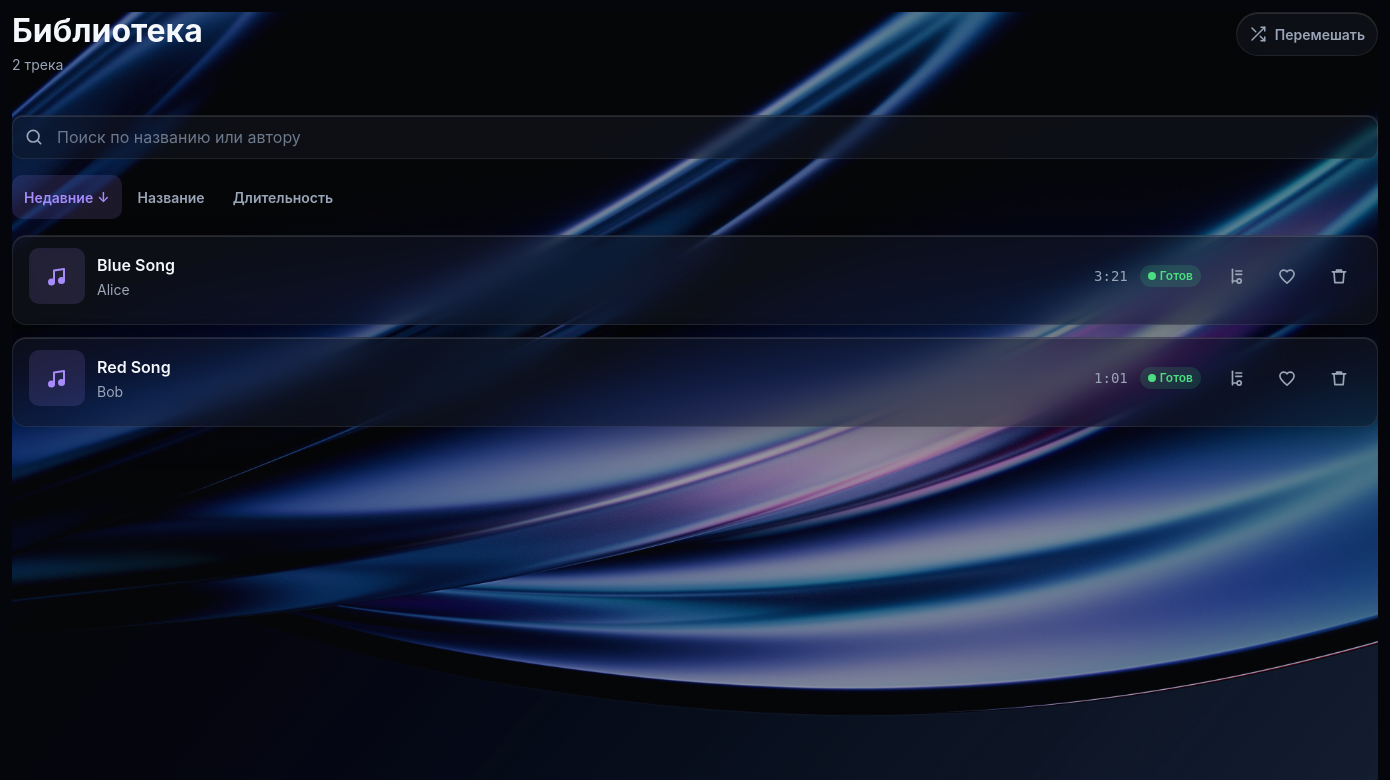
Test: LibraryView › keeps the row and shows a message when deletion fails with 409
Click the 1st button with class "track-row__action--delete" at x=1339, y=276, box [1317, 254, 1361, 298]
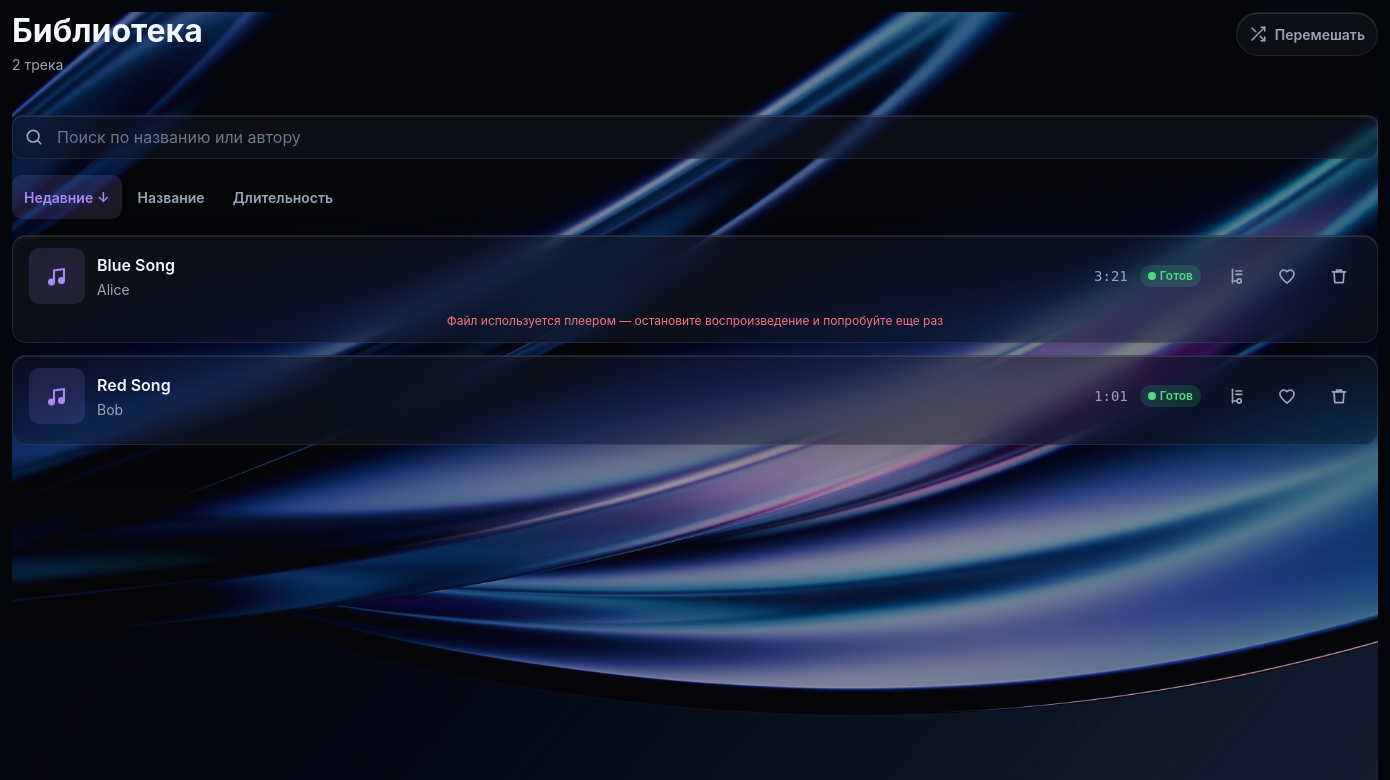
Expected: the number of list items with class "track-row" is 2, [12, 235, 1378, 343]; [12, 355, 1378, 445]
Expected: the message with class "track-row__error" shows "Файл используется плеером", [447, 313, 943, 328]
